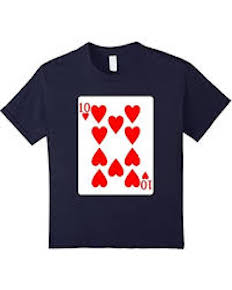TenOfHearts: (74, 91, 162, 202)
